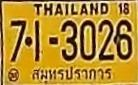0: (79, 20, 95, 59)
1: (34, 20, 40, 60)
2: (98, 20, 113, 59)
3: (60, 20, 76, 60)
6: (114, 19, 132, 59)
7: (10, 19, 26, 62)
SPK: (29, 65, 115, 83)
